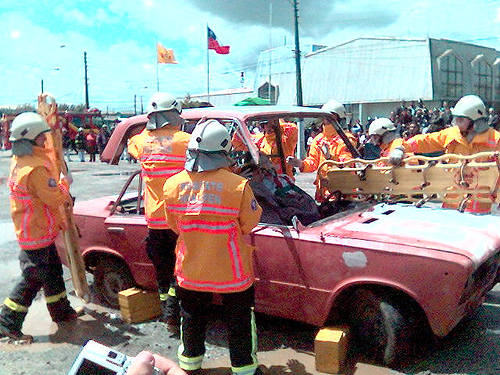helmet: (184, 118, 237, 153), (453, 94, 490, 122), (13, 111, 45, 141), (143, 94, 179, 120), (320, 96, 348, 119), (372, 114, 393, 132)
